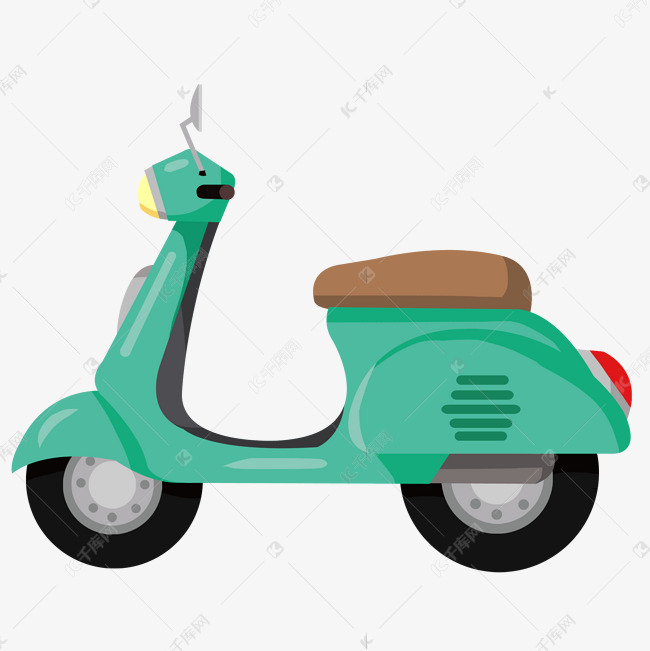MNV: (14, 151, 631, 577)
